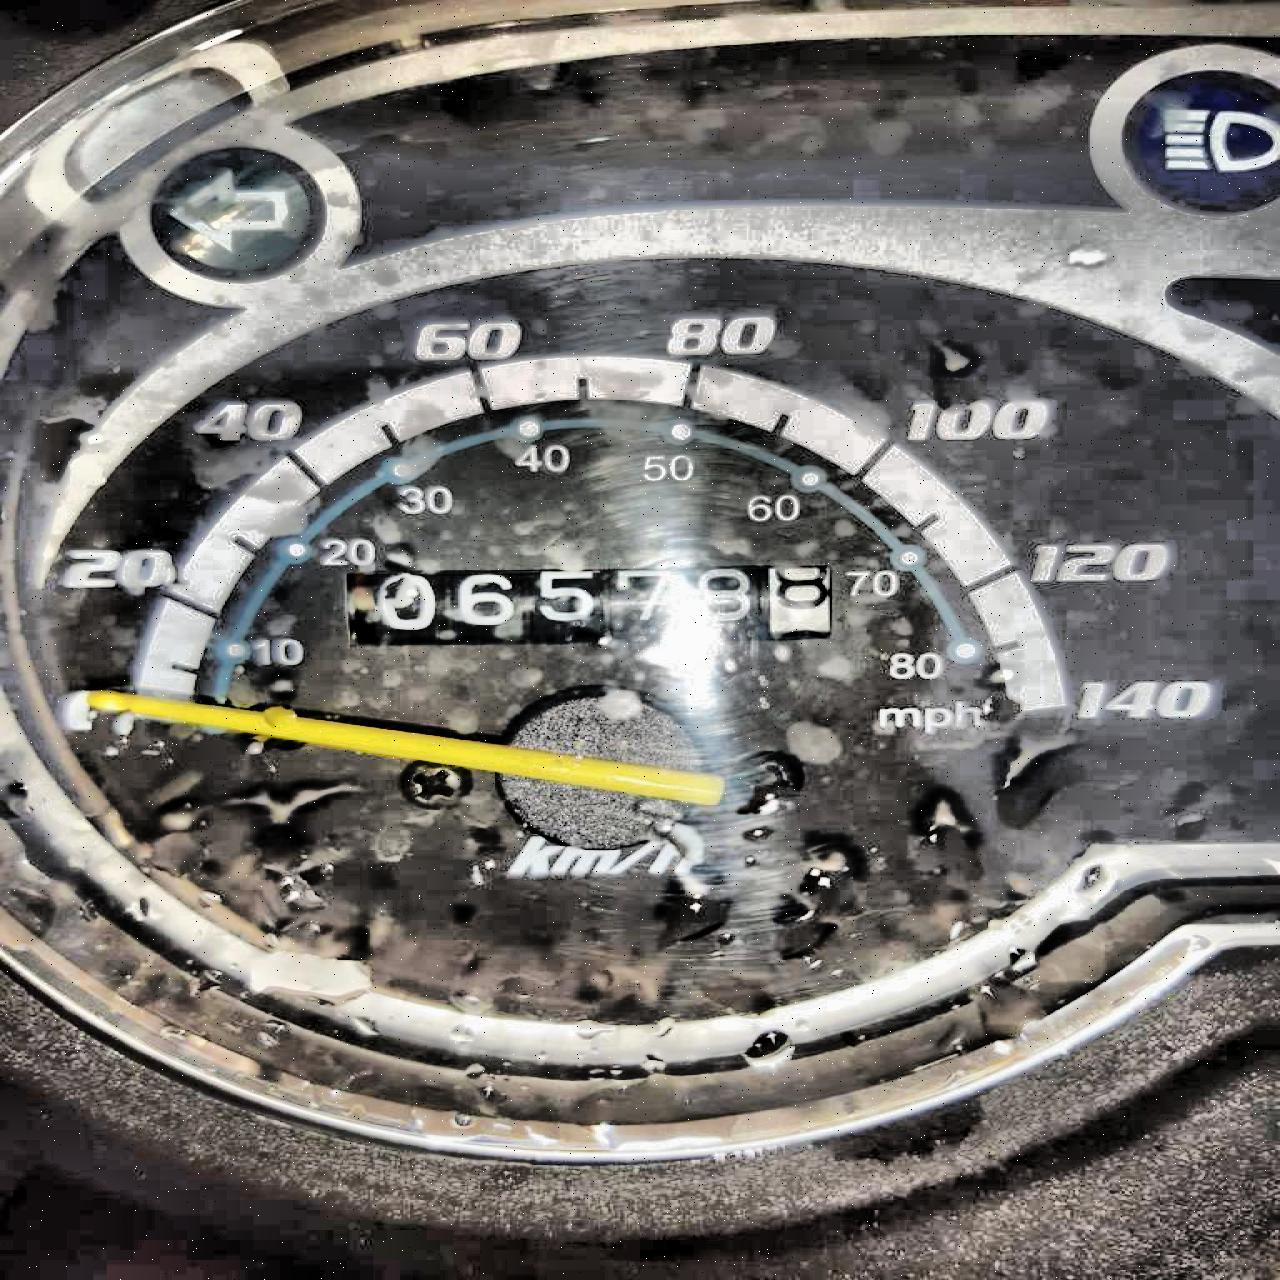0: (376, 568, 436, 638)
5: (533, 566, 599, 627)
6: (456, 567, 517, 631)
7: (612, 564, 676, 633)
8: (767, 561, 836, 615), (694, 564, 754, 624)
odometer: (352, 553, 846, 658)
